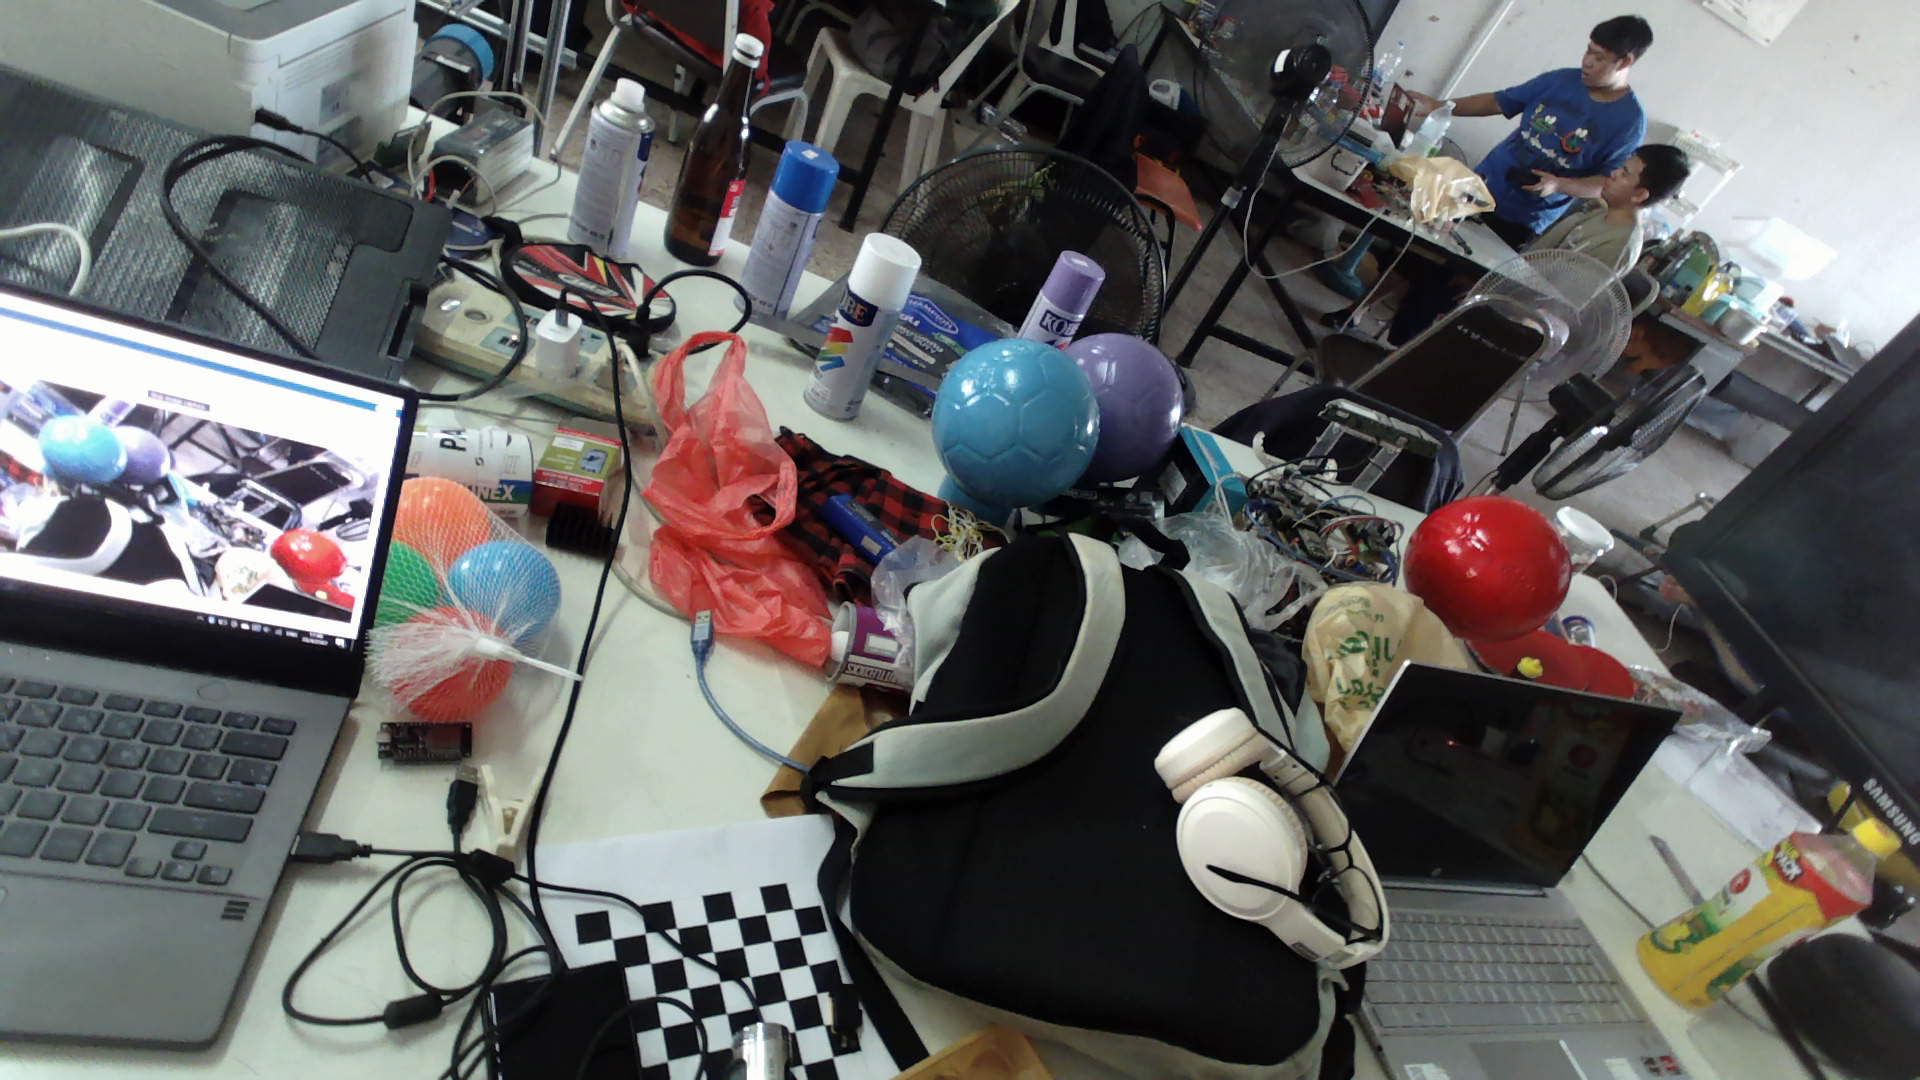Blue ball: (930, 335, 1102, 509)
Purple ball: (1072, 328, 1185, 475)
Red ball: (1400, 493, 1575, 646)
